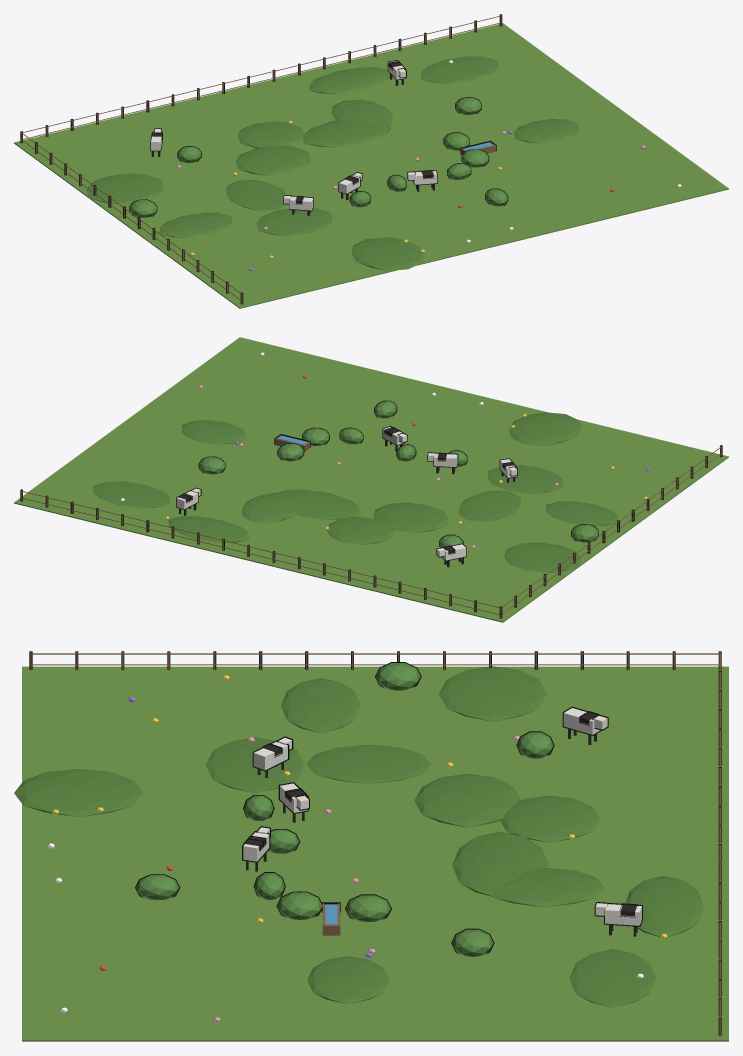
Rendered from Kir_alan_cayir_1.fbx.
The picture shows the model from 3 angles, top to bottom: view 1: azimuth 30°, elevation 25°; view 2: azimuth 150°, elevation 25°; view 3: azimuth 270°, elevation 25°; orthographic projection. The views are drawn at different scales.
Visible parts, largest first — view 1: Kir_alan_cayir_1; view 2: Kir_alan_cayir_1; view 3: Kir_alan_cayir_1.
Part boxes in pixels (x1,y1,x2,y2): Kir_alan_cayir_1: (14, 14, 728, 308); Kir_alan_cayir_1: (14, 337, 728, 622); Kir_alan_cayir_1: (14, 651, 728, 1041).
Size of the model in its own units: 50.07 by 2.05 by 40.46.
